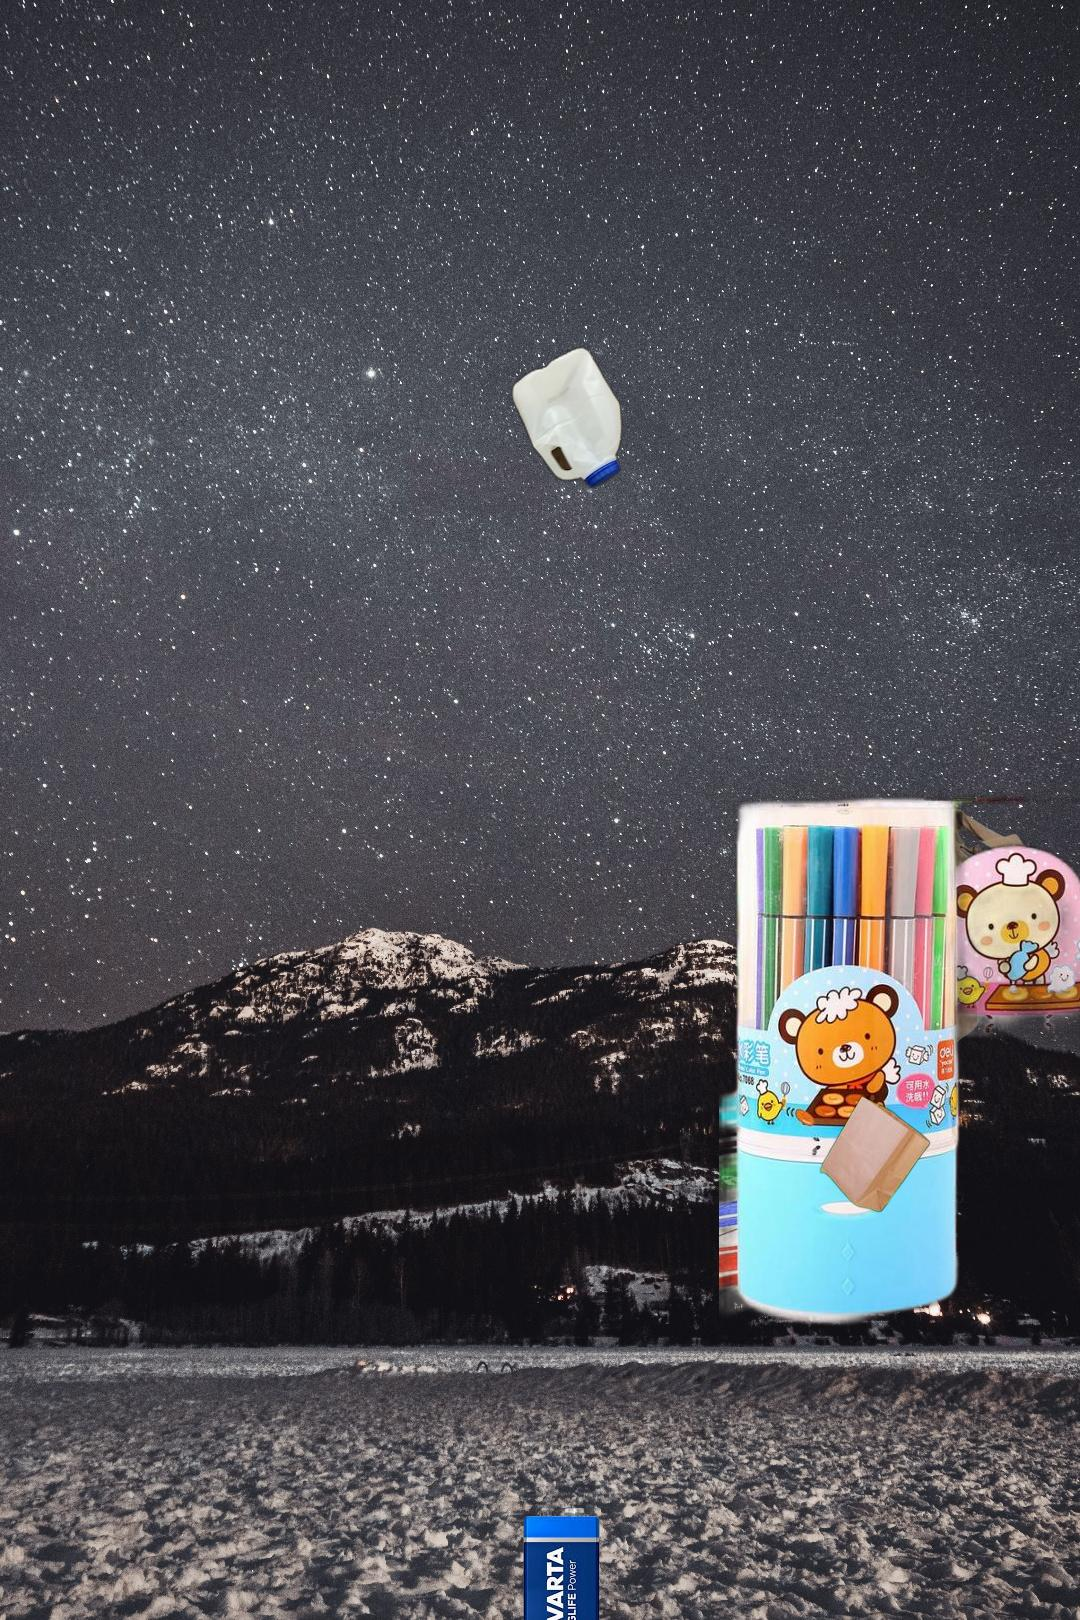battery: (520, 1505, 601, 1620)
paper-bag: (818, 1093, 933, 1215)
penholder: (720, 565, 1080, 1364)
plastic-bottles: (507, 341, 627, 493)
trashbox-cardboard: (845, 806, 1041, 1049)
